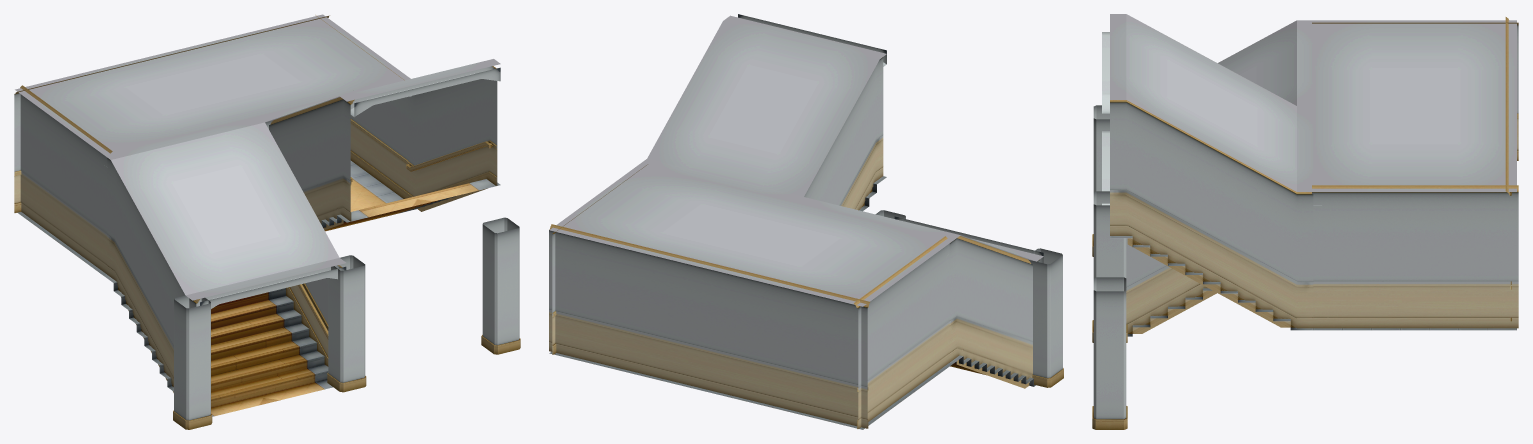
File: Single Stairs (Second Floor) (merge).fbx
3 views of the same model, side by side, from view 1: azimuth 30°, elevation 25°; view 2: azimuth 150°, elevation 25°; view 3: azimuth 270°, elevation 25° (orthographic). The views are drawn at different scales.
Parts seen in each view (by area): view 1: Ceiling (×3), LeftWall (×2), Stairs (×2), InteriorWall (4), RightWall (×2), ExteriorColumn (5), ExteriorColumn (4), ExteriorColumn (3), InteriorWall (3), Supporter (1), Supporter, InteriorFloor (1) (+1 smaller); view 2: Ceiling (×3), InteriorWall (2), InteriorWall (4), LeftWall, RightWall, ExteriorColumn (3), InteriorFloor (2), Stairs, Supporter (1), InteriorWall (3), Supporter; view 3: Ceiling (×3), InteriorWall (3), LeftWall, ExteriorColumn (5), RightWall, ExteriorColumn (4), ExteriorColumn (3), InteriorWall (2), InteriorWall (4), Supporter (1), Stairs, InteriorFloor (1) (+1 smaller).
Boxes of the visible parts, x1,y1,x2,y2 form: Ceiling (×3): [15, 14, 500, 300]; LeftWall (×2): [107, 66, 497, 392]; Stairs (×2): [104, 179, 500, 416]; InteriorWall (4): [20, 85, 112, 274]; RightWall (×2): [269, 97, 354, 366]; ExteriorColumn (5): [481, 217, 520, 354]; ExteriorColumn (4): [327, 255, 366, 392]; ExteriorColumn (3): [173, 295, 212, 429]; InteriorWall (3): [315, 15, 408, 198]; Supporter (1): [347, 66, 500, 116]; Supporter: [193, 265, 346, 308]; InteriorFloor (1): [350, 160, 403, 211]; Ceiling (×3): [549, 15, 1043, 306]; InteriorWall (2): [549, 224, 869, 428]; InteriorWall (4): [854, 236, 949, 428]; LeftWall: [949, 236, 1039, 388]; RightWall: [804, 57, 883, 210]; ExteriorColumn (3): [1028, 248, 1063, 387]; InteriorFloor (2): [706, 362, 952, 429]; Stairs: [950, 355, 1035, 386]; Supporter (1): [738, 14, 886, 66]; InteriorWall (3): [552, 164, 647, 354]; Supporter: [894, 216, 1043, 263]; Ceiling (×3): [1110, 14, 1516, 191]; InteriorWall (3): [1312, 185, 1518, 328]; LeftWall: [1110, 100, 1313, 328]; ExteriorColumn (5): [1092, 277, 1127, 429]; RightWall: [1126, 238, 1216, 333]; ExteriorColumn (4): [1092, 191, 1127, 342]; ExteriorColumn (3): [1092, 105, 1109, 256]; InteriorWall (2): [1505, 17, 1511, 321]; InteriorWall (4): [1312, 22, 1518, 160]; Supporter (1): [1102, 32, 1109, 113]; Stairs: [1110, 236, 1313, 330]; InteriorFloor (1): [1313, 328, 1516, 330].
Bounding box in the file's own units: 8.69 × 7 × 8.38.
7 materials, 7 textured.
